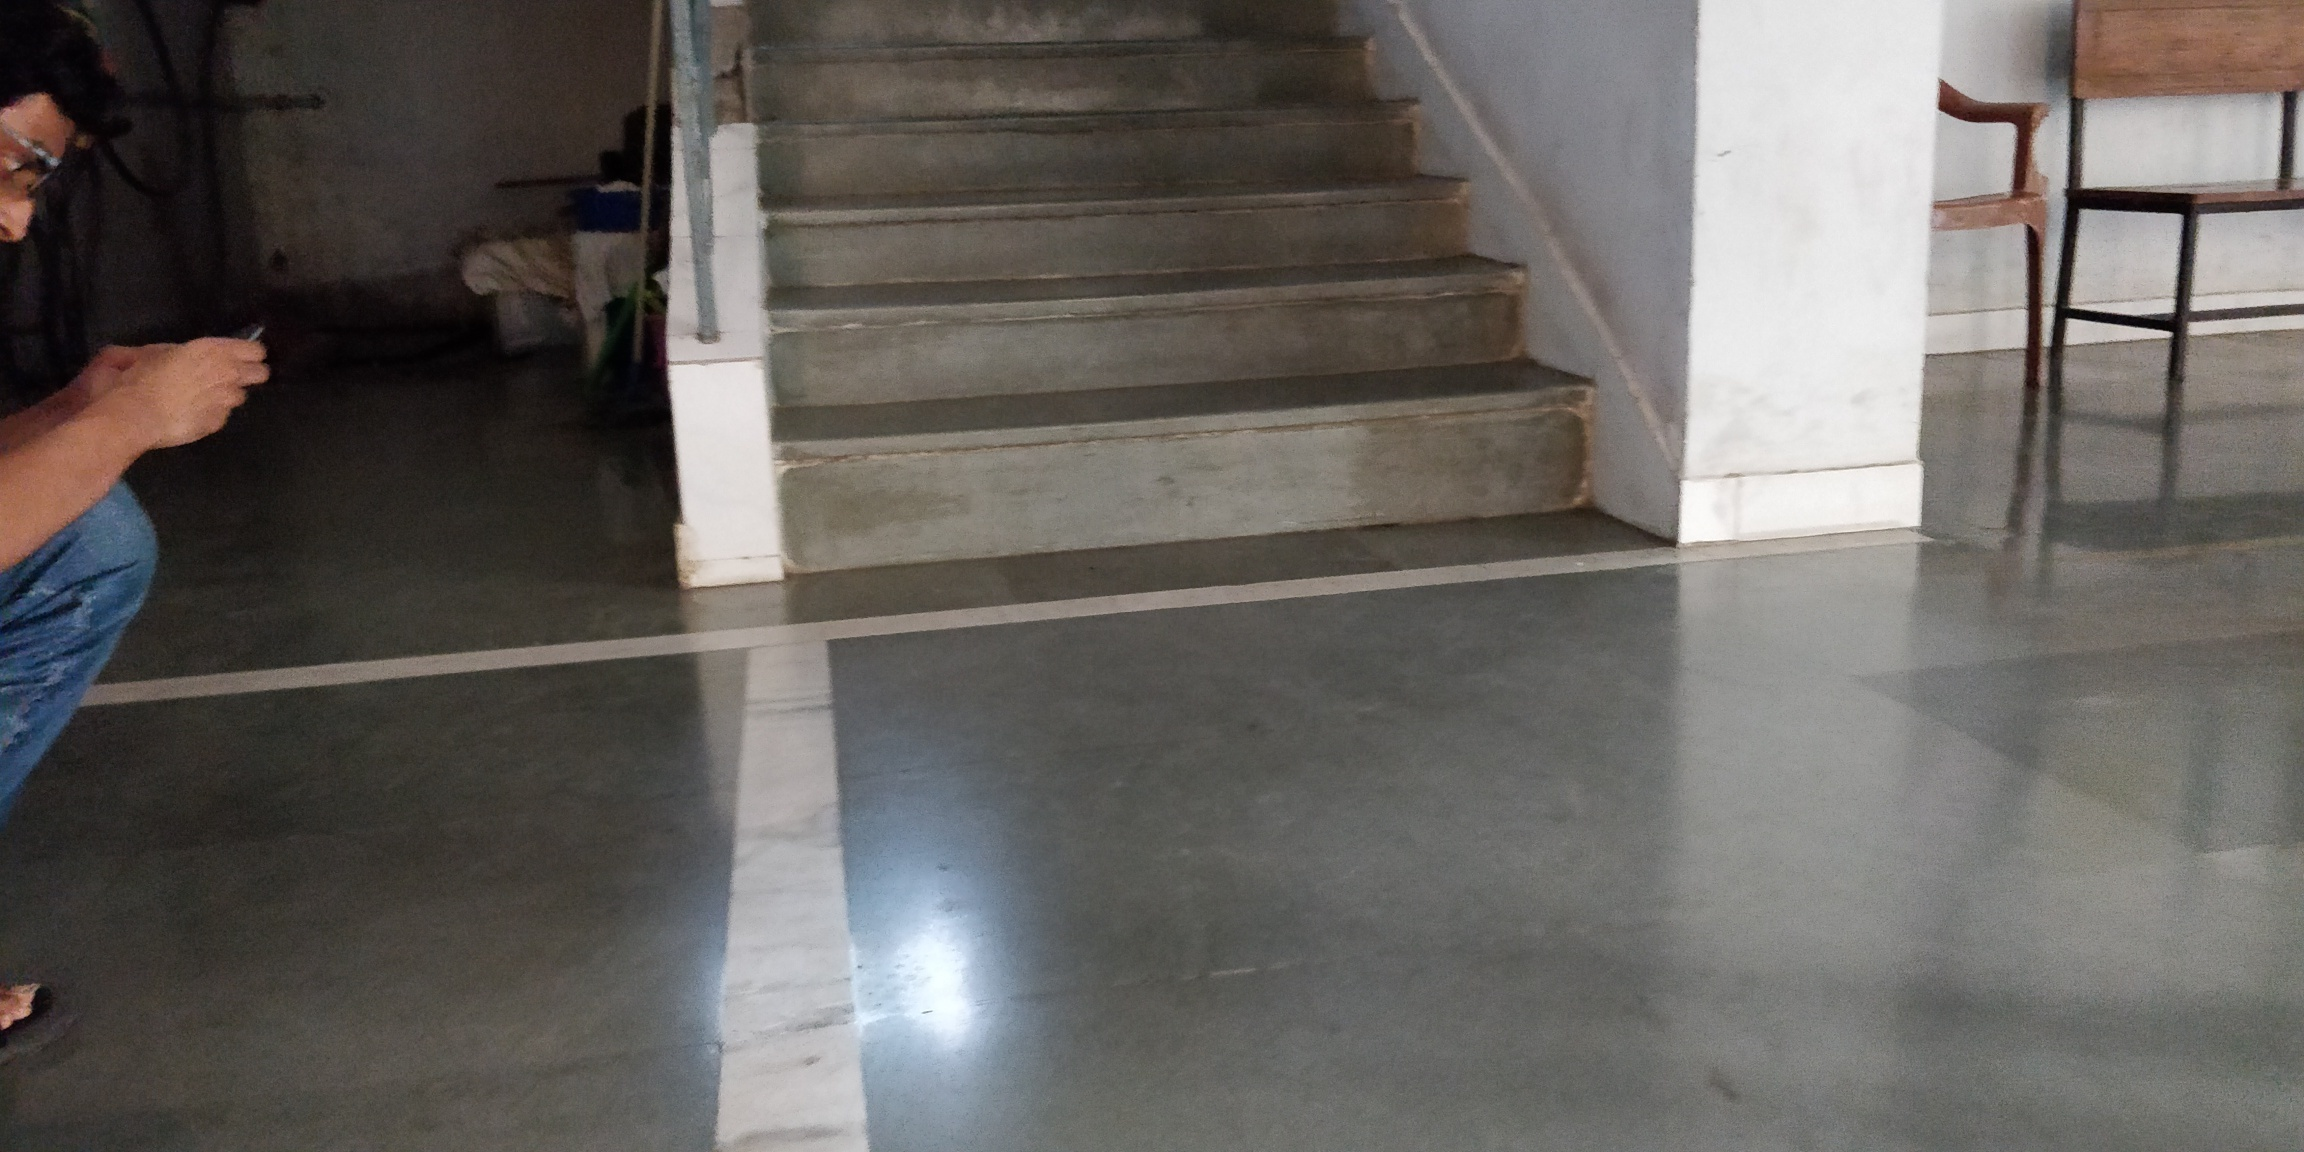stairs_up: (744, 40, 1635, 589)
